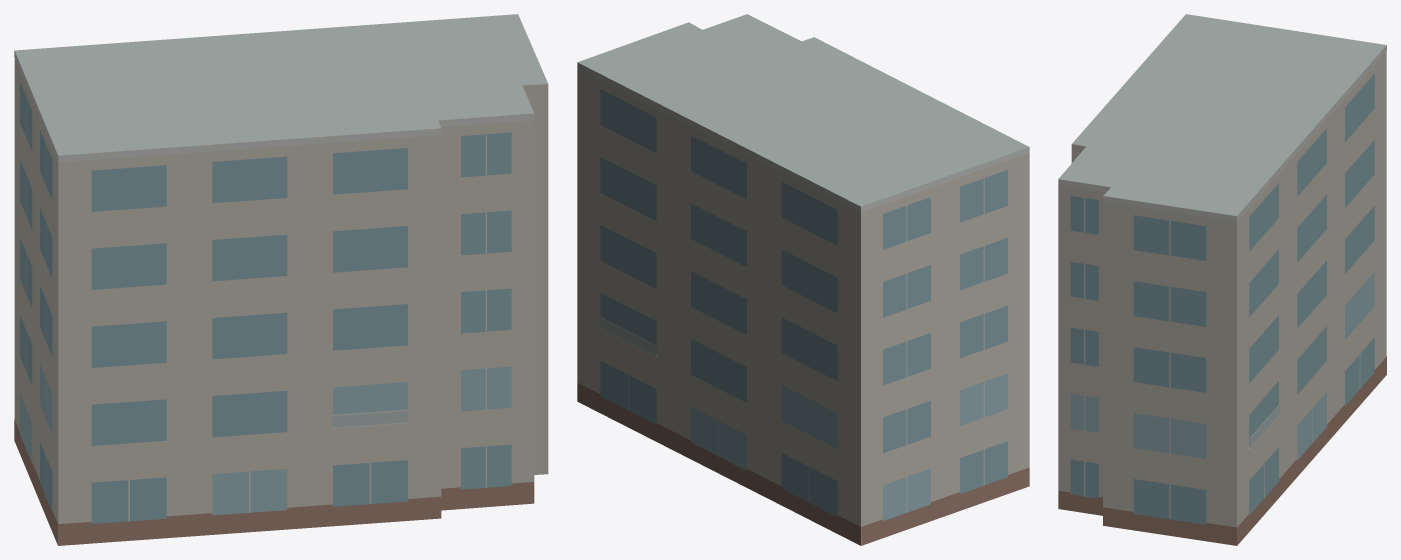
File: survey-upis-32976075.glb
The picture shows the model from 3 angles, left to right: view 1: azimuth 30°, elevation 25°; view 2: azimuth 150°, elevation 25°; view 3: azimuth 270°, elevation 25°; orthographic projection. The views are drawn at different scales.
Parts seen in each view (by area): view 1: survey-upis-32976075.tmp; view 2: survey-upis-32976075.tmp; view 3: survey-upis-32976075.tmp.
Part boxes in pixels (bbox=[...]): survey-upis-32976075.tmp: bbox=[14, 14, 548, 545]; survey-upis-32976075.tmp: bbox=[577, 14, 1029, 545]; survey-upis-32976075.tmp: bbox=[1058, 14, 1386, 545].
Bounding box in the file's own units: 18.54 × 14.1 × 12.74.
